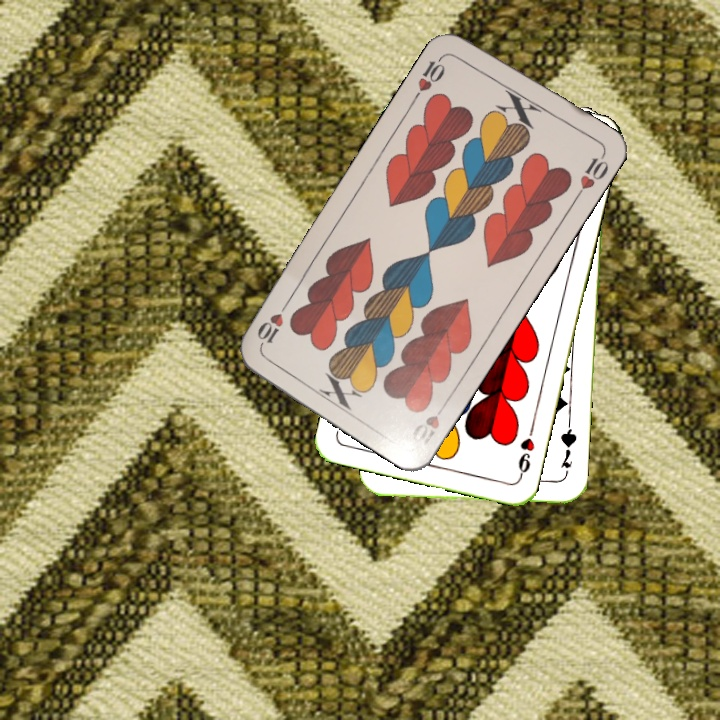G7: (557, 422, 579, 471)
H10: (408, 397, 451, 452), (409, 50, 449, 102)
H9: (514, 422, 537, 481)
